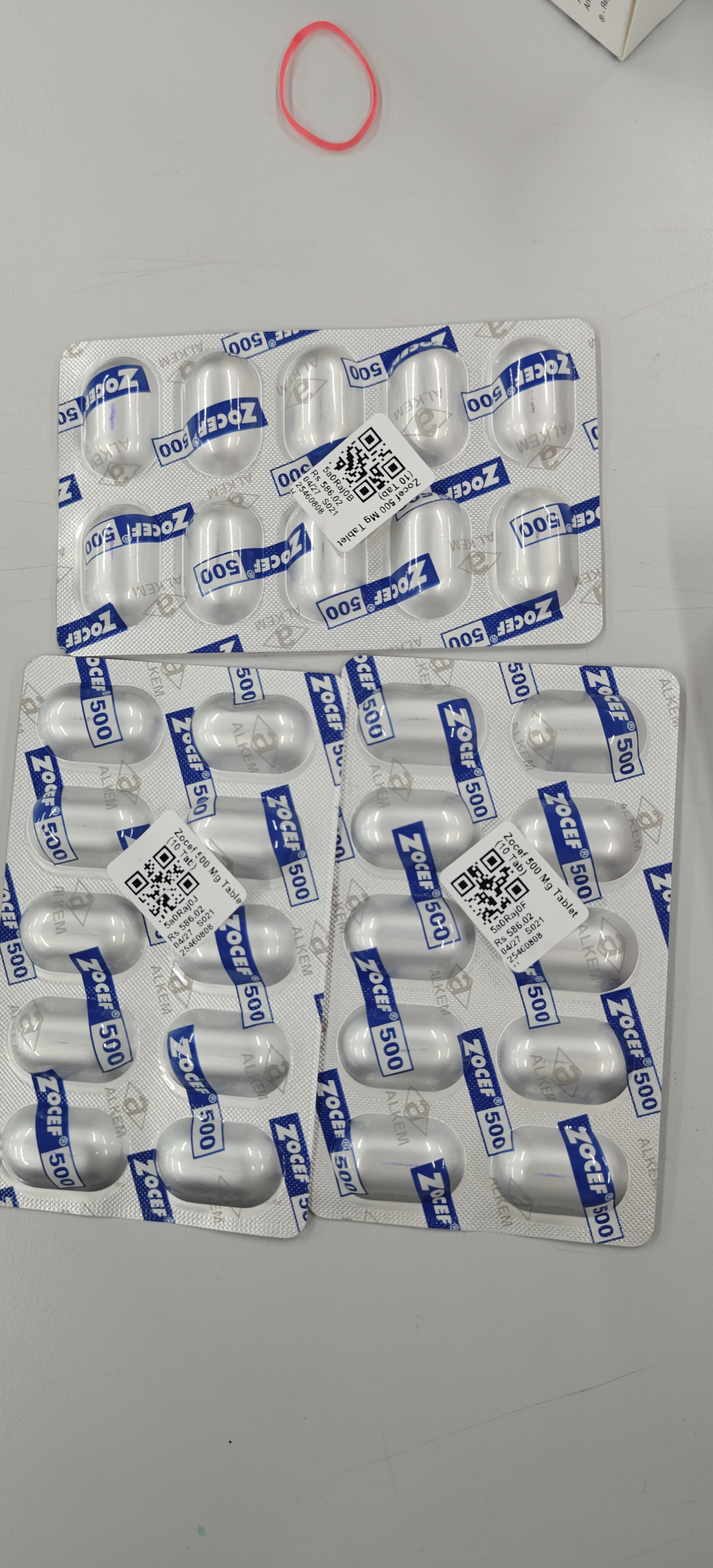qr_code: (448, 845, 532, 929)
